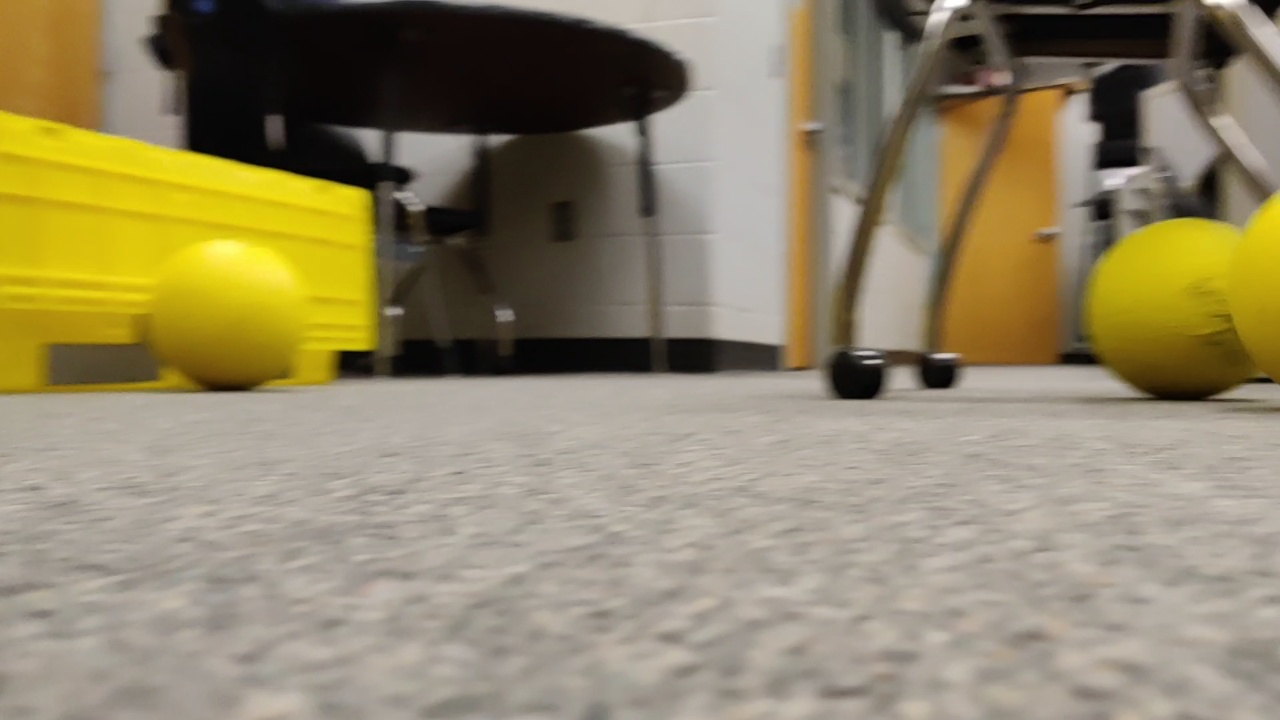Ball: (1056, 207, 1280, 381), (149, 240, 301, 388)
